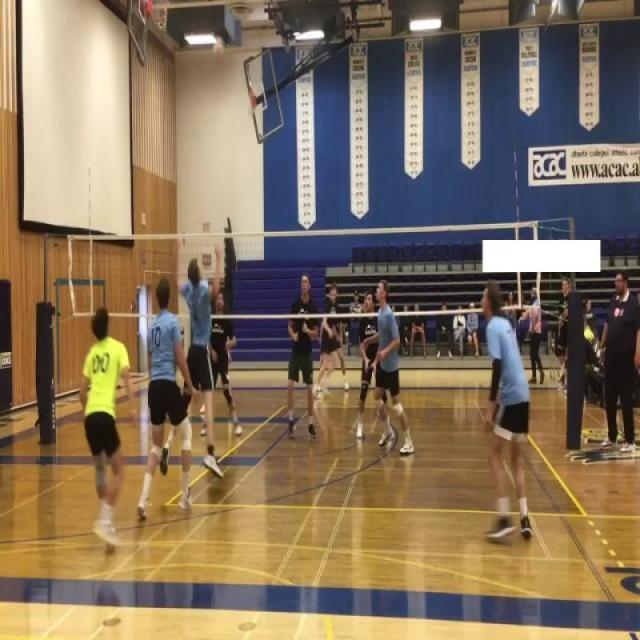volleyball: (212, 36, 225, 60)
